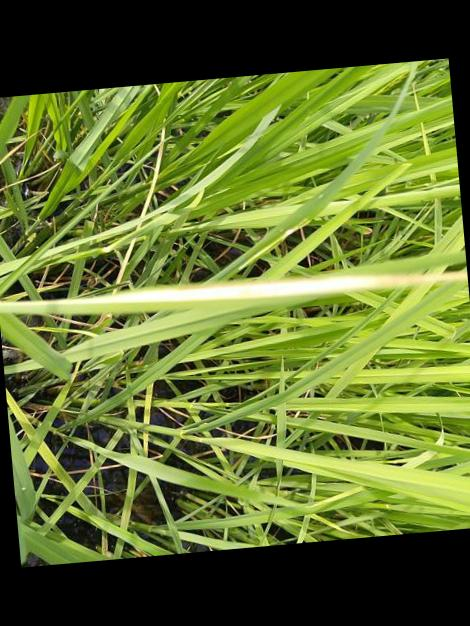Leaf Blight: (0, 271, 468, 314)
